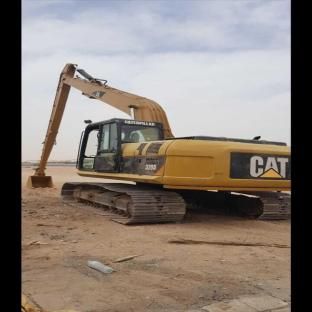ExcavationMachinery: (31, 53, 282, 239)
